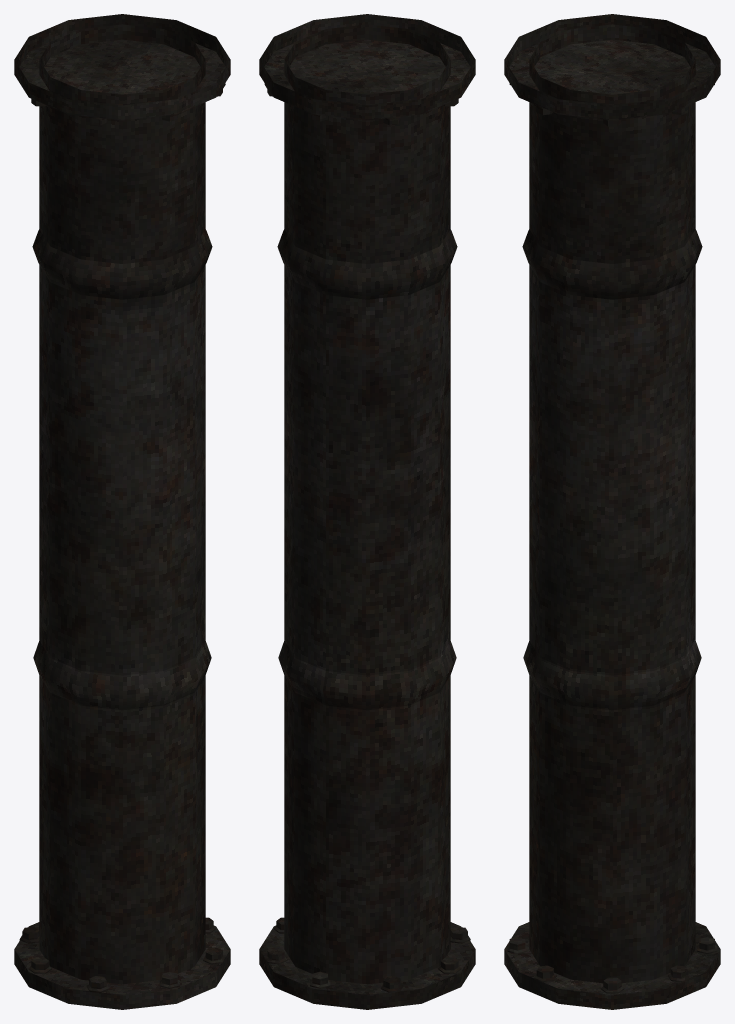
File: pipe_1_short.glb
3 views of the same model, side by side, from view 1: azimuth 30°, elevation 25°; view 2: azimuth 150°, elevation 25°; view 3: azimuth 270°, elevation 25° (orthographic).
Parts seen in each view (by area): view 1: pipe_1_short; view 2: pipe_1_short; view 3: pipe_1_short.
Part boxes in pixels (x1,y1,x2,y2): pipe_1_short: [14, 14, 230, 1009]; pipe_1_short: [259, 14, 475, 1009]; pipe_1_short: [504, 14, 720, 1009].
Size of the model in its own units: 0.26 by 1.2 by 0.26.
Materials: 1 (1 with a texture image).
